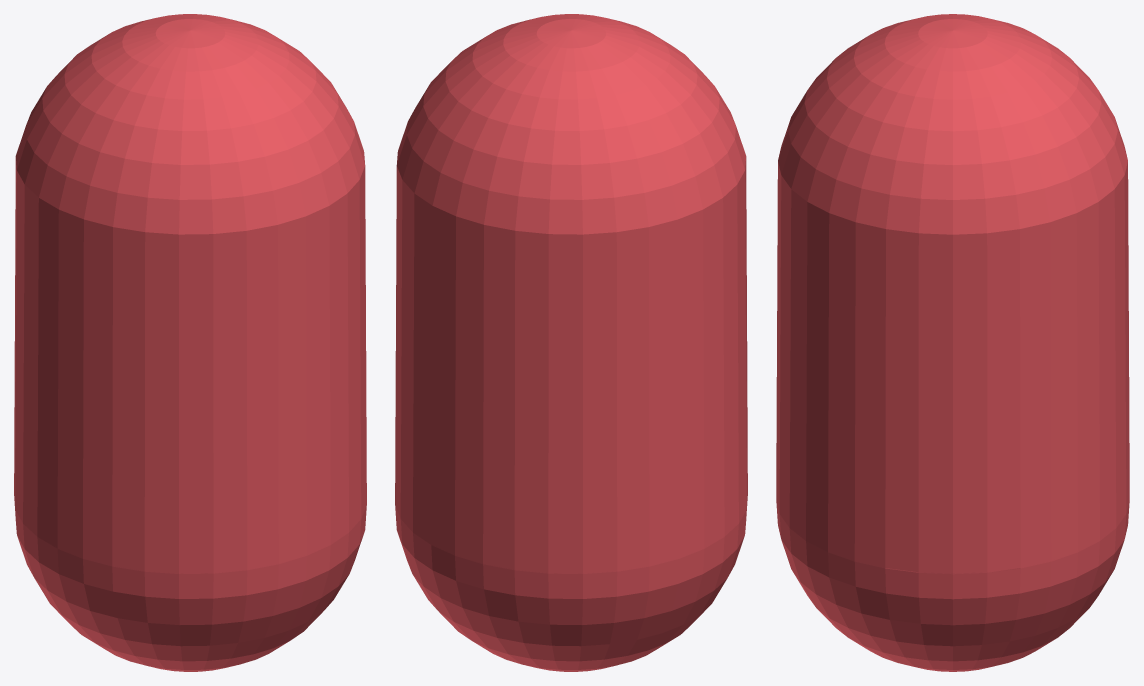
Rendered from Pill.glb.
The picture shows the model from 3 angles, left to right: view 1: azimuth 30°, elevation 25°; view 2: azimuth 150°, elevation 25°; view 3: azimuth 270°, elevation 25°; orthographic projection.
Parts seen in each view (by area): view 1: Sphere; view 2: Sphere; view 3: Sphere.
Part boxes in pixels (x1,y1,x2,y2): Sphere: (14,14,366,671); Sphere: (395,14,747,671); Sphere: (776,14,1129,671).
Size of the model in its own units: 1.98 by 3.86 by 1.98.
